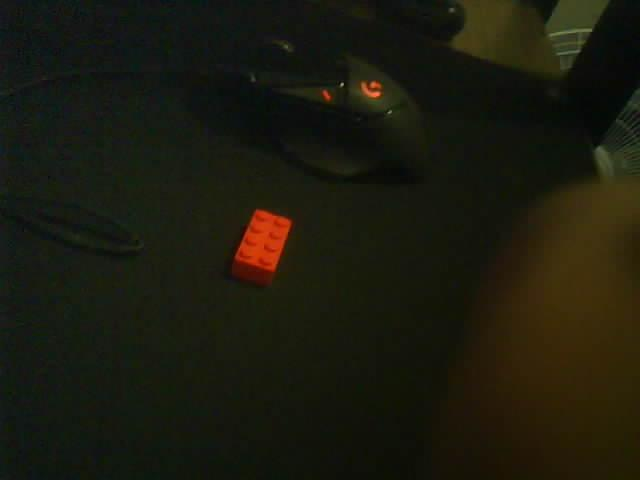lego: (230, 208, 294, 287)
